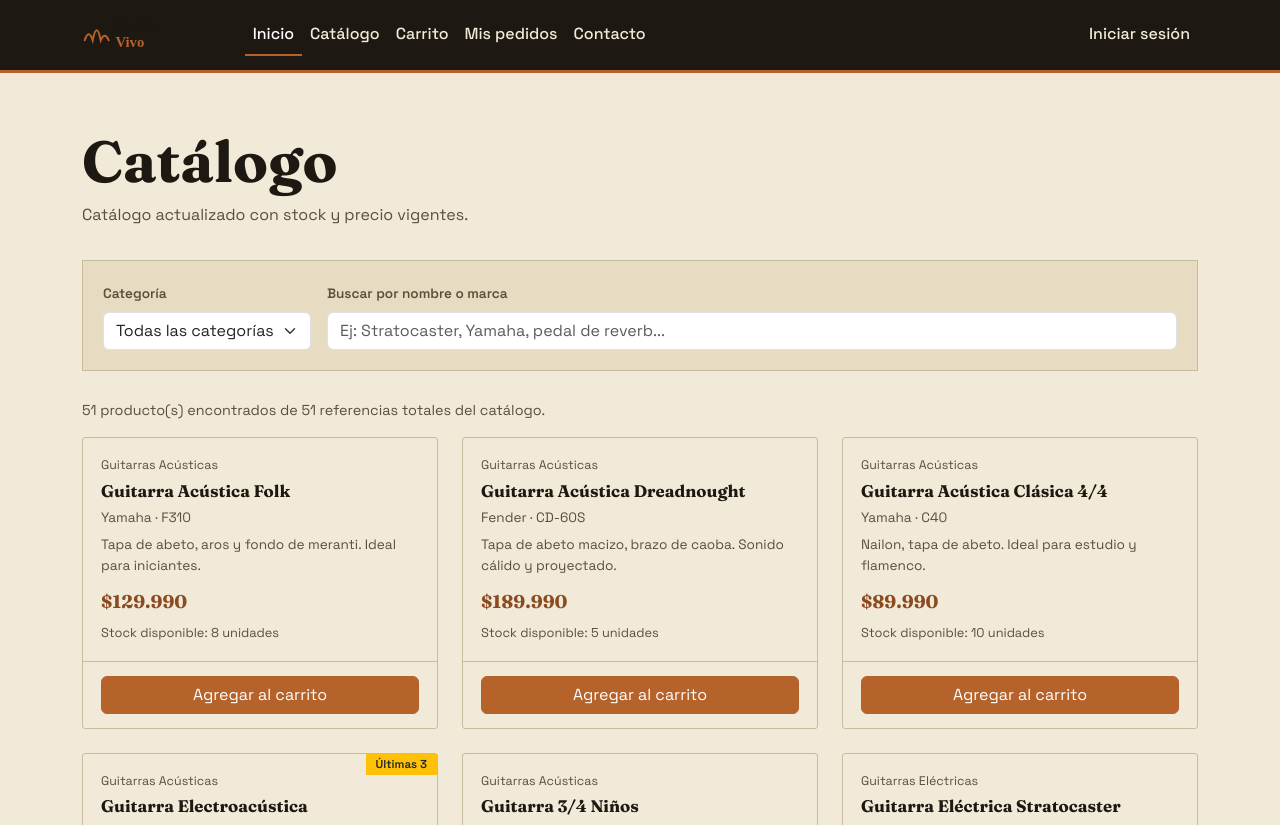
Catalogo › busca por nombre o marca
Type "Stratocaster" into the search field labelled "Buscar por nombre o marca". click: (752,331)
box: x1=327 y1=312 x2=1177 y2=350
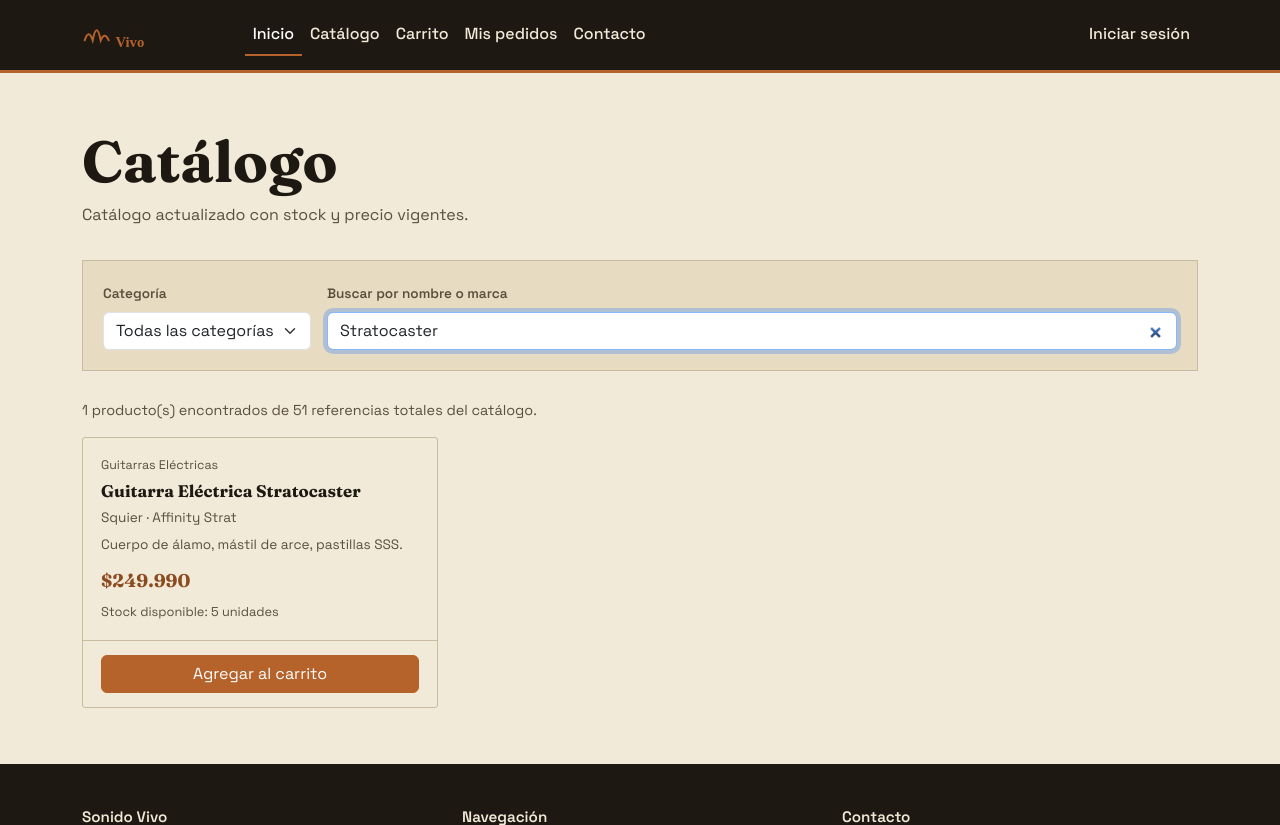
Expected: the heading "Guitarra Eléctrica Stratocaster" is shown, x1=101 y1=481 x2=361 y2=501
Expected: the text "producto(s) encontrados" no longer shows "51 producto", x1=82 y1=401 x2=537 y2=419
